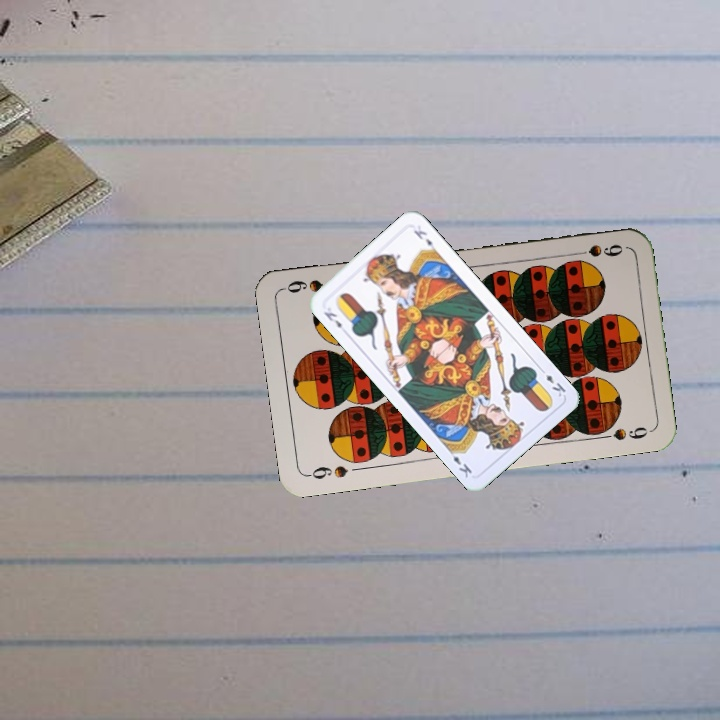EK: (535, 364, 569, 399), (320, 307, 344, 331)
S9: (567, 240, 626, 259), (304, 461, 351, 482)
